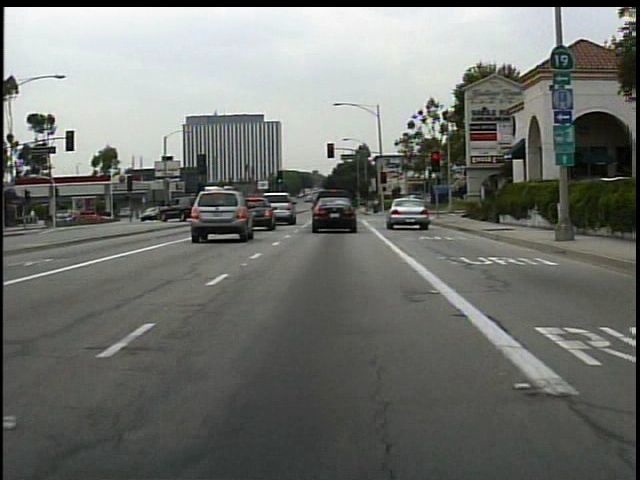person: (371, 195, 382, 216)
